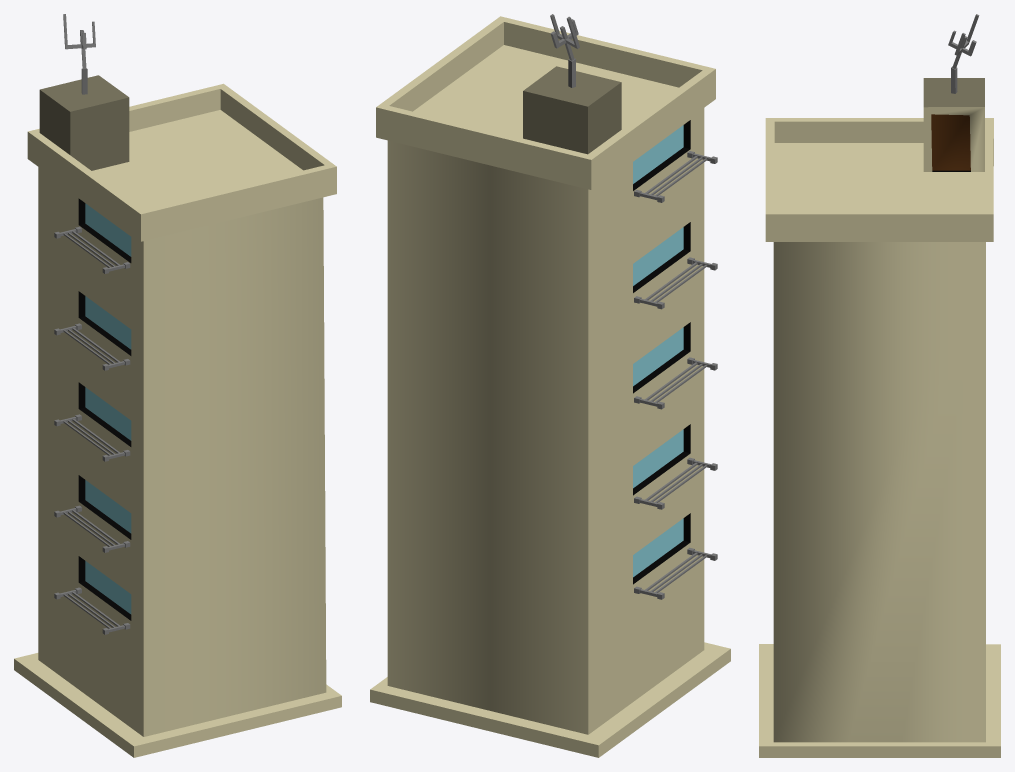
3 renders of one model, left to right at view 1: azimuth 30°, elevation 25°; view 2: azimuth 150°, elevation 25°; view 3: azimuth 270°, elevation 25°, orthographic. The views are drawn at different scales.
Parts seen in each view (by area): view 1: Circle.002; view 2: Circle.002; view 3: Circle.002.
Part boxes in pixels (x1=…): Circle.002: x1=14, y1=14, x2=341, y2=757; Circle.002: x1=370, y1=14, x2=730, y2=757; Circle.002: x1=759, y1=14, x2=1000, y2=757.
Bounding box in the file's own units: 456 × 1318 × 438.
